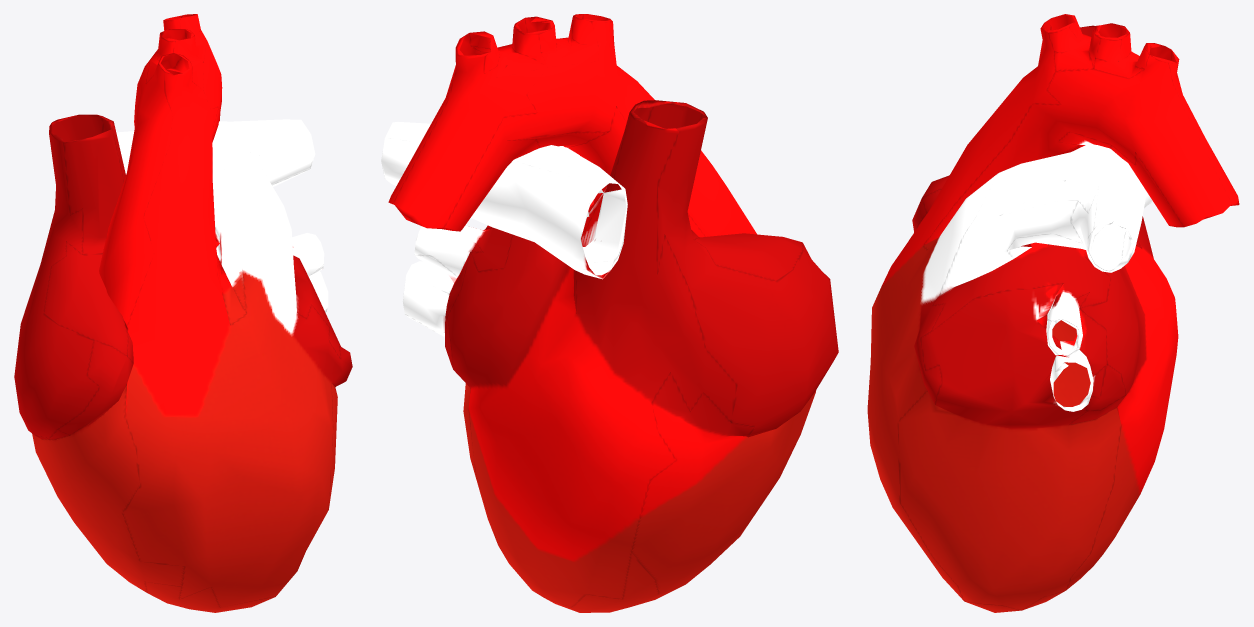
Rendered from corazon.glb.
3 renders of one model, left to right at view 1: azimuth 30°, elevation 25°; view 2: azimuth 150°, elevation 25°; view 3: azimuth 270°, elevation 25°, orthographic. The views are drawn at different scales.
Parts seen in each view (by area): view 1: HEART_LOW_POLY__Copy_; view 2: HEART_LOW_POLY__Copy_; view 3: HEART_LOW_POLY__Copy_.
Part boxes in pixels (x1=…): HEART_LOW_POLY__Copy_: x1=14, y1=14, x2=352, y2=612; HEART_LOW_POLY__Copy_: x1=381, y1=14, x2=838, y2=612; HEART_LOW_POLY__Copy_: x1=867, y1=14, x2=1239, y2=612.
Size of the model in its own units: 89.13 by 142 by 82.77.
Materials: 1 (1 with a texture image).
